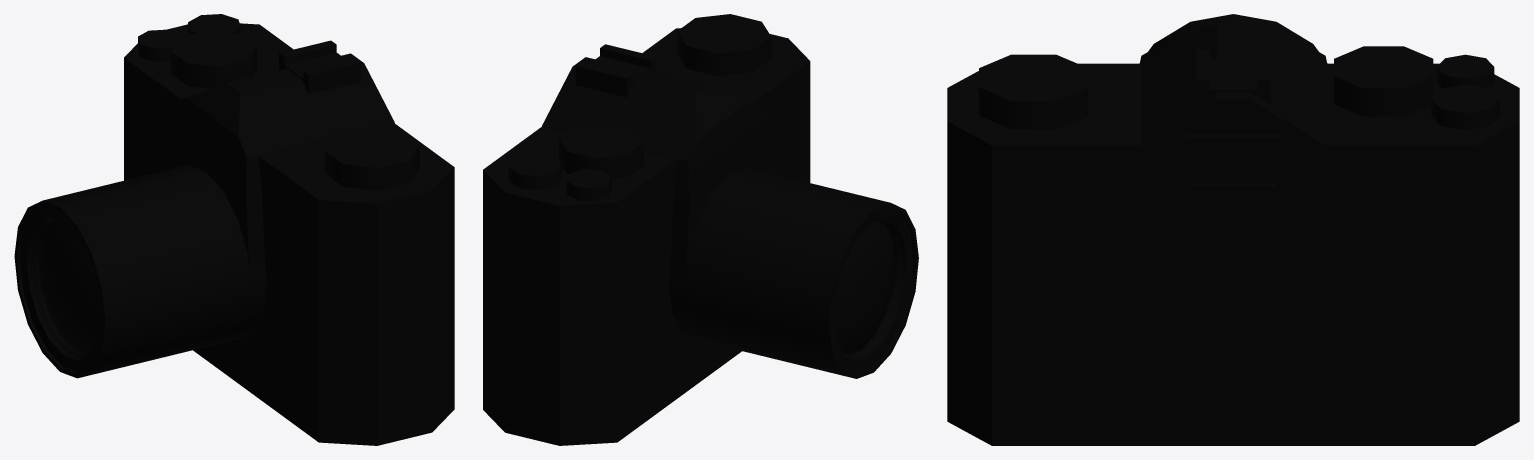
File: SM_Camera1.fbx
The picture shows the model from 3 angles, left to right: view 1: azimuth 30°, elevation 25°; view 2: azimuth 150°, elevation 25°; view 3: azimuth 270°, elevation 25°; orthographic projection. The views are drawn at different scales.
Parts seen in each view (by area): view 1: SM_Camera1; view 2: SM_Camera1; view 3: SM_Camera1.
Part boxes in pixels (x1,y1,x2,y2): SM_Camera1: [14, 14, 454, 445]; SM_Camera1: [483, 14, 918, 445]; SM_Camera1: [947, 14, 1519, 445].
Bounding box in the file's own units: 16.1 × 21.23 × 14.68.
1 material, 1 textured.
